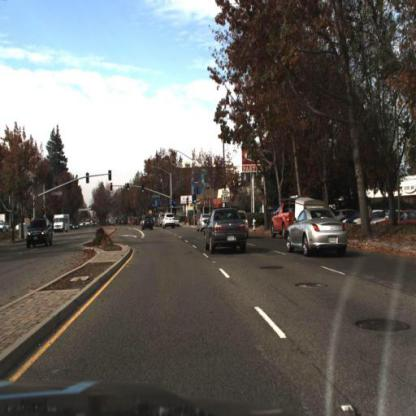car: (287, 205, 349, 256), (204, 206, 250, 261), (261, 189, 298, 243), (24, 213, 55, 255), (367, 211, 388, 233), (195, 207, 209, 239), (350, 214, 368, 235), (139, 211, 156, 231), (161, 212, 177, 230)
truck: (50, 212, 72, 235), (53, 211, 72, 234)
